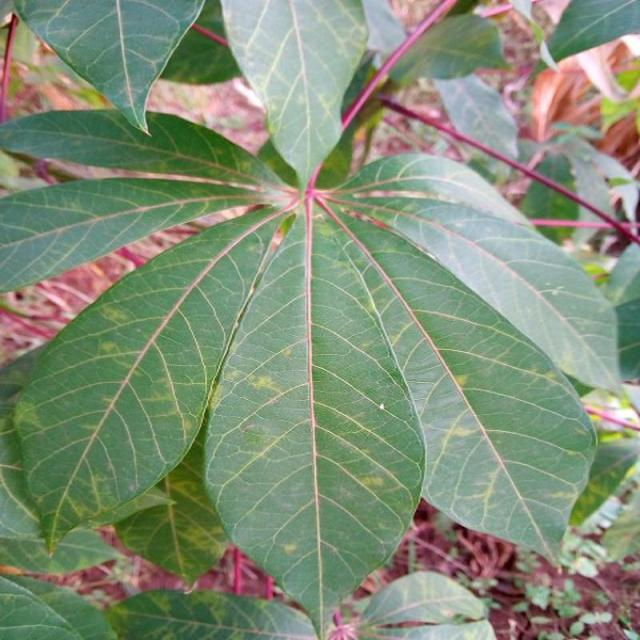cassava leaf: (1, 1, 625, 637), (202, 205, 426, 637), (219, 0, 370, 193), (11, 0, 206, 137)
